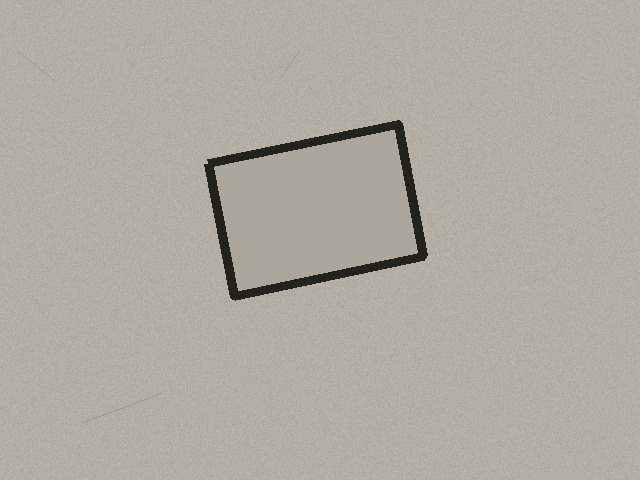parking_area: (208, 124, 423, 296)
